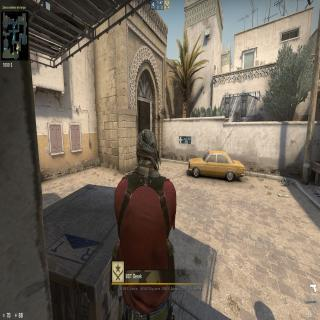T-Head: (136, 125, 162, 175)
